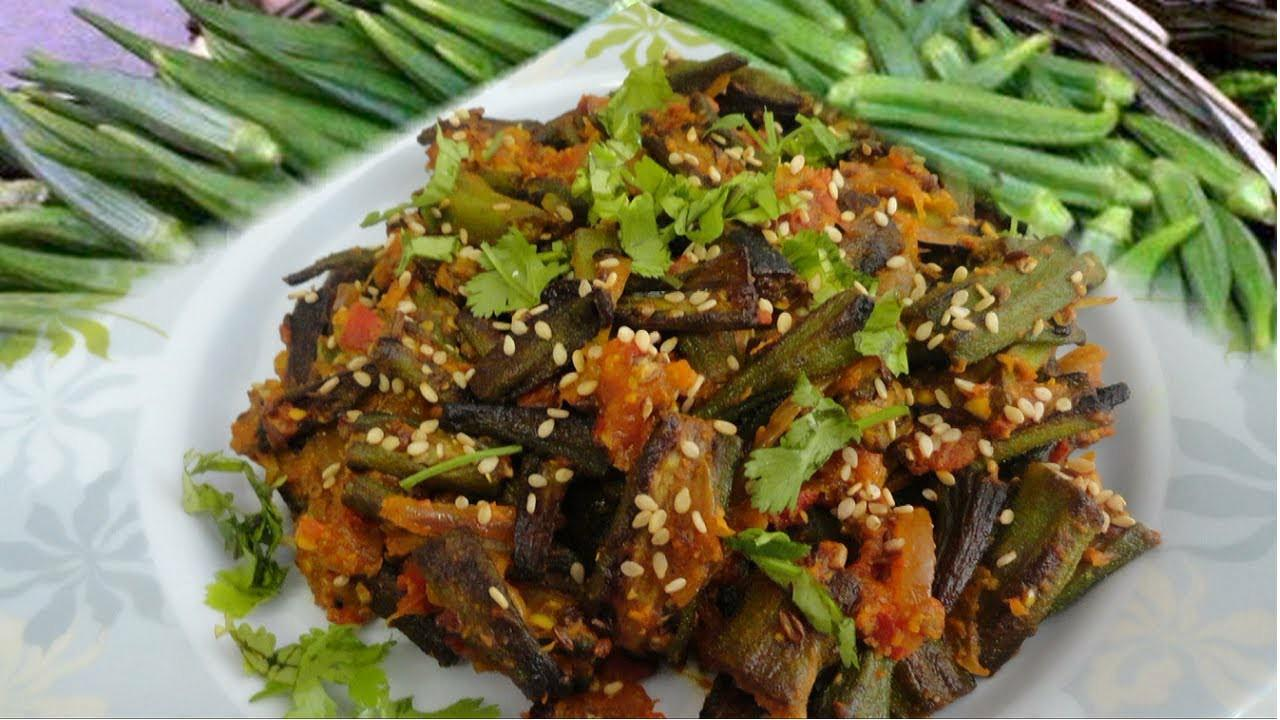BhindiMasala: (231, 49, 1163, 720)
